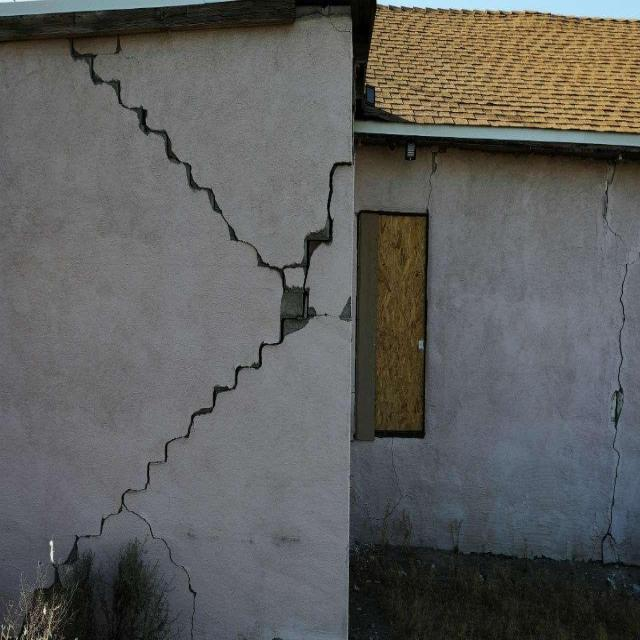damage: (65, 49, 302, 281), (112, 326, 289, 493), (597, 164, 632, 574), (133, 506, 210, 640), (254, 220, 340, 339), (66, 497, 132, 570), (310, 142, 360, 232), (410, 150, 447, 221)
